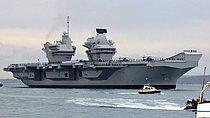MIL_Ship: (3, 15, 202, 91)
